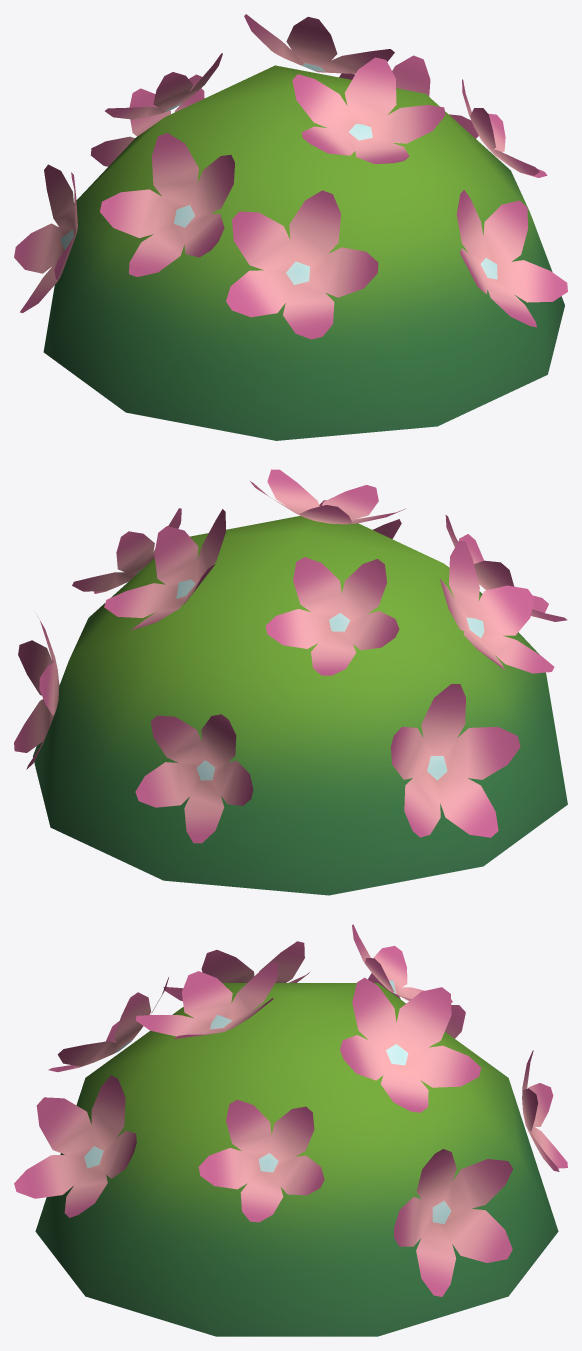
The model's file is Flower_019.fbx.
3 renders of one model, top to bottom at view 1: azimuth 30°, elevation 25°; view 2: azimuth 150°, elevation 25°; view 3: azimuth 270°, elevation 25°, orthographic. The views are drawn at different scales.
Visible parts, largest first — view 1: Flower.019; view 2: Flower.019; view 3: Flower.019.
Boxes of the visible parts, bbox=[...] form: Flower.019: bbox=[14, 14, 567, 440]; Flower.019: bbox=[14, 469, 567, 895]; Flower.019: bbox=[14, 924, 567, 1336].
Bounding box in the file's own units: 2.01 × 1.15 × 2.12.
